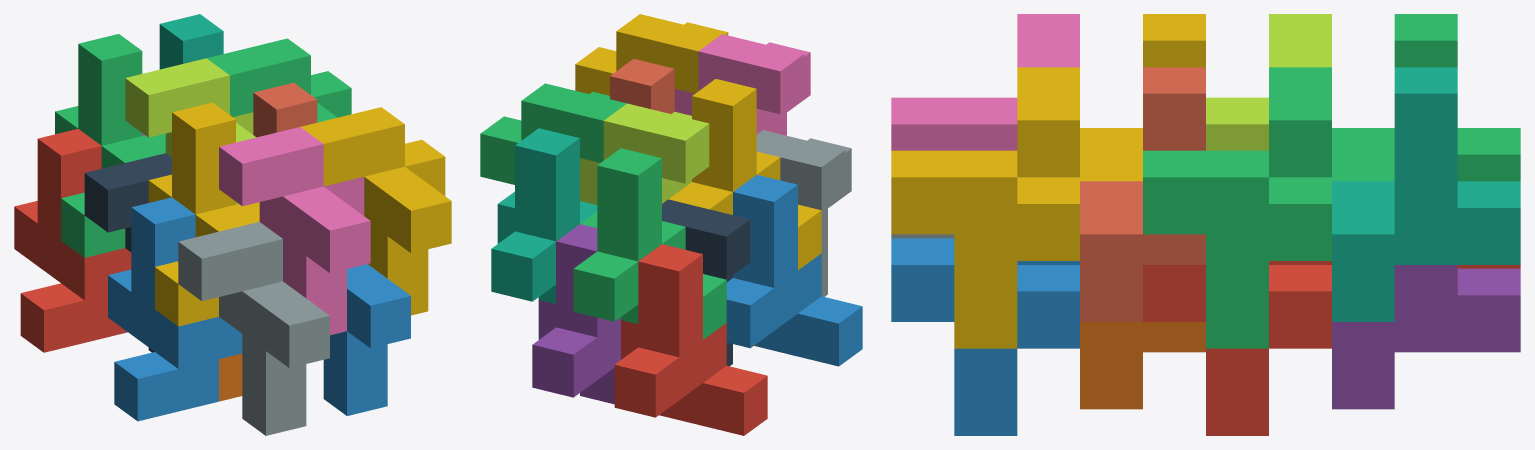
Rendered from tiling.obj.
3 renders of one model, left to right at view 1: azimuth 30°, elevation 25°; view 2: azimuth 150°, elevation 25°; view 3: azimuth 270°, elevation 25°, orthographic. The views are drawn at different scales.
Parts seen in each view (by area): view 1: copy_2_domain_2, copy_2_domain_4, copy_1_domain_2, copy_2_domain_8, copy_1_domain_1, copy_1_domain_3, copy_1_domain_4, copy_2_domain_6, copy_2_domain_3, copy_2_domain_7, copy_2_domain_1, copy_1_domain_7 (+2 smaller); view 2: copy_1_domain_1, copy_1_domain_2, copy_1_domain_3, copy_1_domain_7, copy_1_domain_5, copy_1_domain_4, copy_2_domain_4, copy_2_domain_7, copy_2_domain_3, copy_2_domain_8, copy_2_domain_2, copy_2_domain_1 (+1 smaller); view 3: copy_2_domain_8, copy_2_domain_7, copy_1_domain_7, copy_2_domain_6, copy_1_domain_5, copy_1_domain_8, copy_2_domain_5, copy_1_domain_3, copy_2_domain_4, copy_1_domain_6, copy_1_domain_4, copy_2_domain_3.
Part boxes in pixels (x1,y1,x2,y2): copy_2_domain_2: (178,222,329,435); copy_2_domain_4: (219,127,370,335); copy_1_domain_2: (108,197,242,421); copy_2_domain_8: (300,107,451,315); copy_1_domain_1: (14,129,131,352); copy_1_domain_3: (55,34,165,257); copy_1_domain_4: (148,102,259,326); copy_2_domain_6: (323,264,410,415); copy_2_domain_3: (125,58,256,204); copy_2_domain_7: (206,38,351,122); copy_2_domain_1: (84,153,171,352); copy_1_domain_7: (159,14,223,69); copy_1_domain_1: (614,244,767,435); copy_1_domain_2: (726,175,862,366); copy_1_domain_3: (573,148,726,339); copy_1_domain_7: (491,128,597,303); copy_1_domain_5: (532,224,661,415); copy_1_domain_4: (668,79,821,270); copy_2_domain_4: (674,34,810,135); copy_2_domain_7: (480,83,626,184); copy_2_domain_3: (580,103,709,204); copy_2_domain_8: (575,14,728,95); copy_2_domain_2: (756,130,851,296); copy_2_domain_1: (662,199,750,366); copy_2_domain_8: (891,67,1079,348); copy_2_domain_7: (1143,67,1331,348); copy_1_domain_7: (1332,67,1520,321); copy_2_domain_6: (891,238,1079,435); copy_1_domain_5: (1332,265,1520,409); copy_1_domain_8: (1080,67,1205,321); copy_2_domain_5: (1143,261,1331,435); copy_1_domain_3: (1332,14,1520,181); copy_2_domain_4: (891,14,1079,150); copy_1_domain_6: (1080,322,1205,409); copy_1_domain_4: (1080,14,1205,181); copy_2_domain_3: (1206,14,1331,150).
Size of the model in its own units: 7 by 6 by 10.
